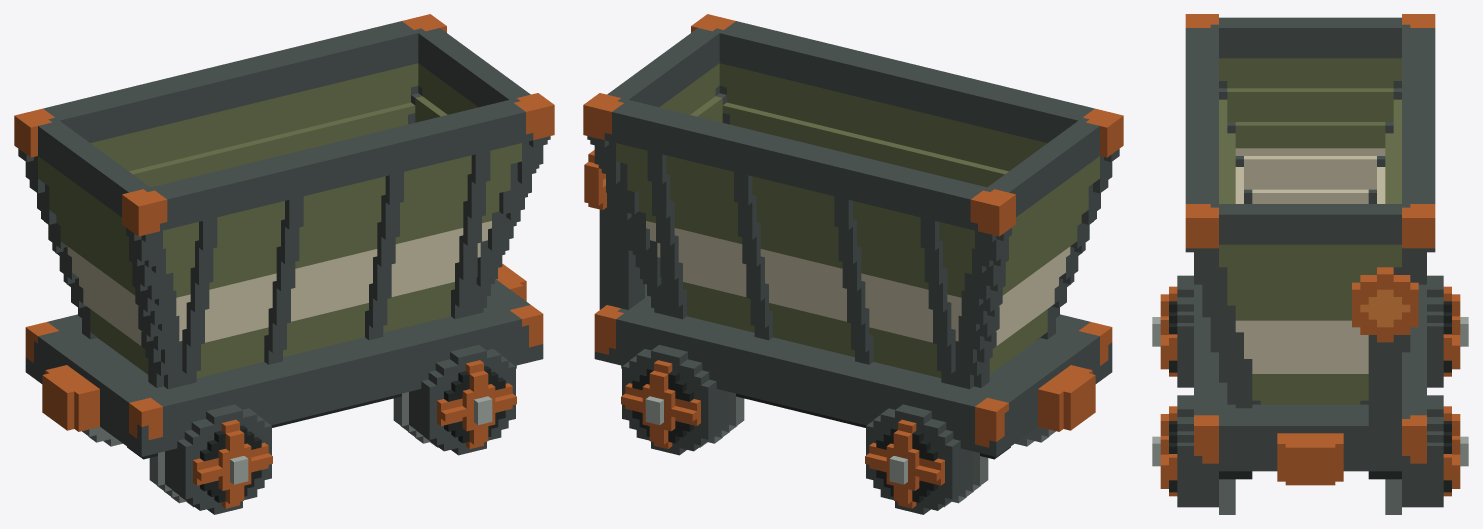
The model's file is mine_cart.glb.
3 views of the same model, side by side, from view 1: azimuth 30°, elevation 25°; view 2: azimuth 150°, elevation 25°; view 3: azimuth 270°, elevation 25° (orthographic).
Parts seen in each view (by area): view 1: mine_cart; view 2: mine_cart; view 3: mine_cart.
Part boxes in pixels (x1,y1,x2,y2): mine_cart: (14,14,554,514); mine_cart: (583,14,1123,514); mine_cart: (1152,14,1468,514).
Bounding box in the file's own units: 4.48 × 3.08 × 2.66.
